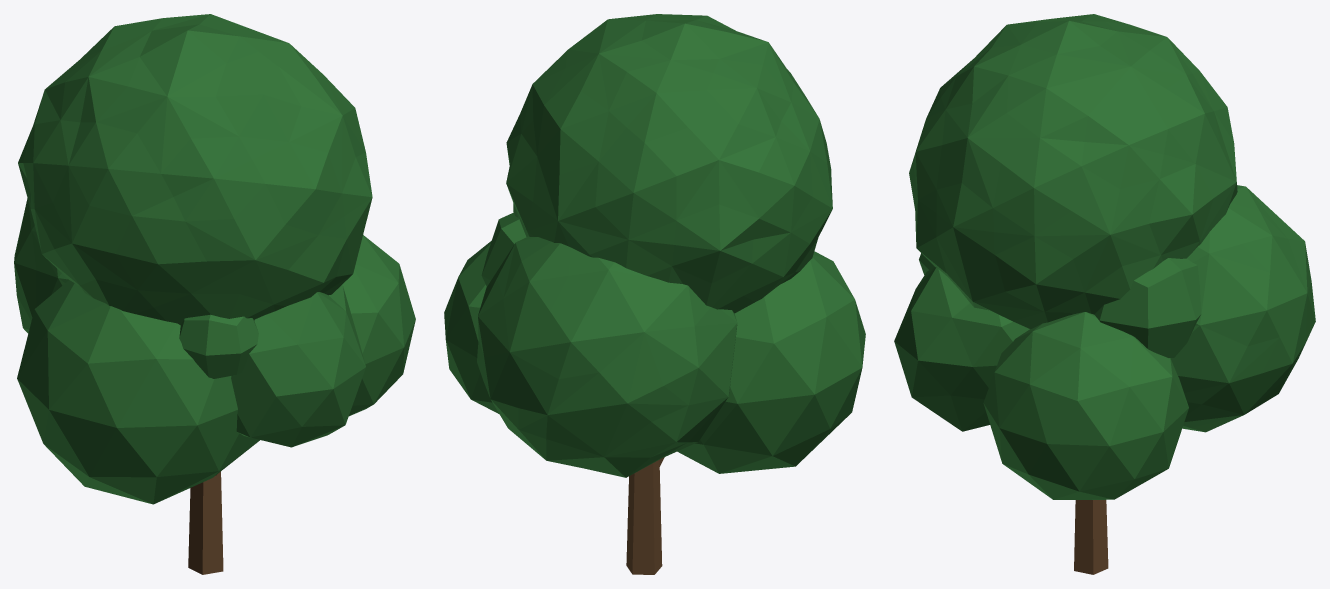
File: tree-lime.glb
3 views of the same model, side by side, from view 1: azimuth 30°, elevation 25°; view 2: azimuth 150°, elevation 25°; view 3: azimuth 270°, elevation 25° (orthographic). The views are drawn at different scales.
Visible parts, largest first — view 1: tree-lime; view 2: tree-lime; view 3: tree-lime.
Part boxes in pixels (<box>): tree-lime: <box>14,14,415,574</box>; tree-lime: <box>444,14,865,574</box>; tree-lime: <box>894,14,1315,574</box>.
Size of the model in its own units: 7.07 by 9.74 by 7.
